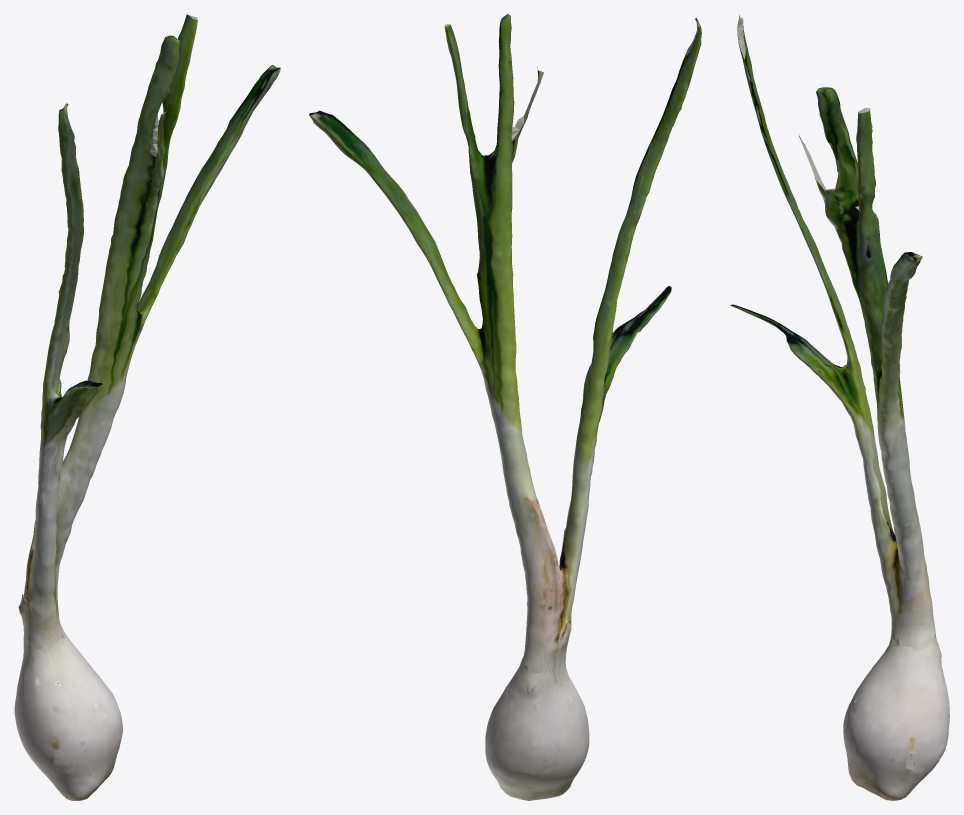
File: onion.obj
The picture shows the model from 3 angles, left to right: view 1: azimuth 30°, elevation 25°; view 2: azimuth 150°, elevation 25°; view 3: azimuth 270°, elevation 25°; orthographic projection. The views are drawn at different scales.
Visible parts, largest first — view 1: cebula_cebula_2_model.001_cebula_2_model.001_cebula_2_model.001; view 2: cebula_cebula_2_model.001_cebula_2_model.001_cebula_2_model.001; view 3: cebula_cebula_2_model.001_cebula_2_model.001_cebula_2_model.001.
Boxes of the visible parts, x1,y1,x2,y2 form: cebula_cebula_2_model.001_cebula_2_model.001_cebula_2_model.001: (14,14,280,800); cebula_cebula_2_model.001_cebula_2_model.001_cebula_2_model.001: (309,14,701,800); cebula_cebula_2_model.001_cebula_2_model.001_cebula_2_model.001: (730,15,949,800).
Bounding box in the file's own units: 0.1363 × 0.3199 × 0.0862.
